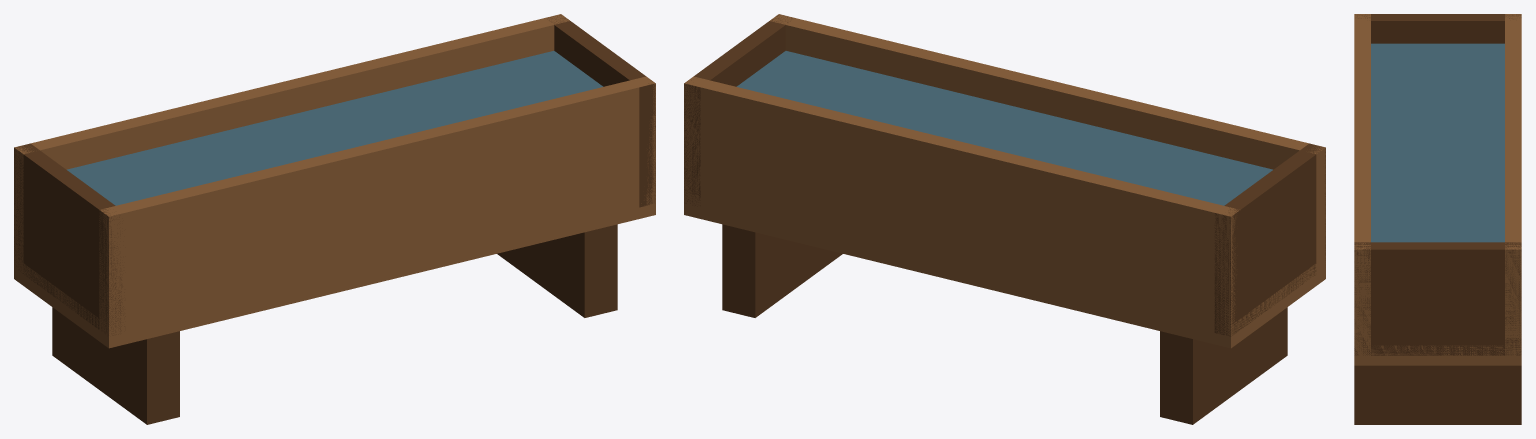
File: water_trough.glb
3 views of the same model, side by side, from view 1: azimuth 30°, elevation 25°; view 2: azimuth 150°, elevation 25°; view 3: azimuth 270°, elevation 25° (orthographic). The views are drawn at different scales.
Parts seen in each view (by area): view 1: water_trough; view 2: water_trough; view 3: water_trough.
Part boxes in pixels (box(x1,y1,x2,y2)): water_trough: box(14, 14, 655, 424); water_trough: box(684, 14, 1325, 424); water_trough: box(1354, 14, 1521, 424).
Size of the model in its own units: 2 by 0.76 by 0.6.
